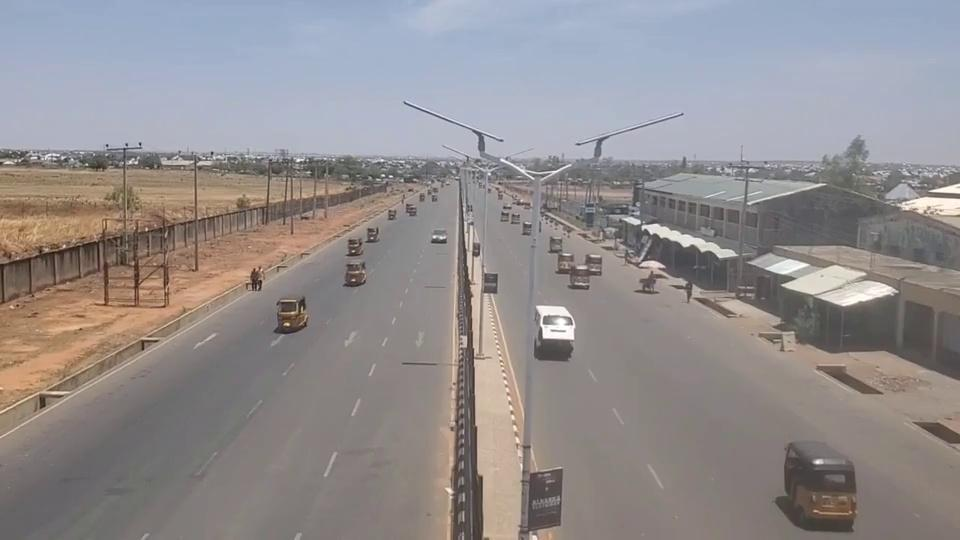bus: (533, 304, 575, 364)
car: (431, 229, 448, 243)
keke: (782, 439, 857, 525), (276, 297, 308, 332), (366, 226, 379, 242)
